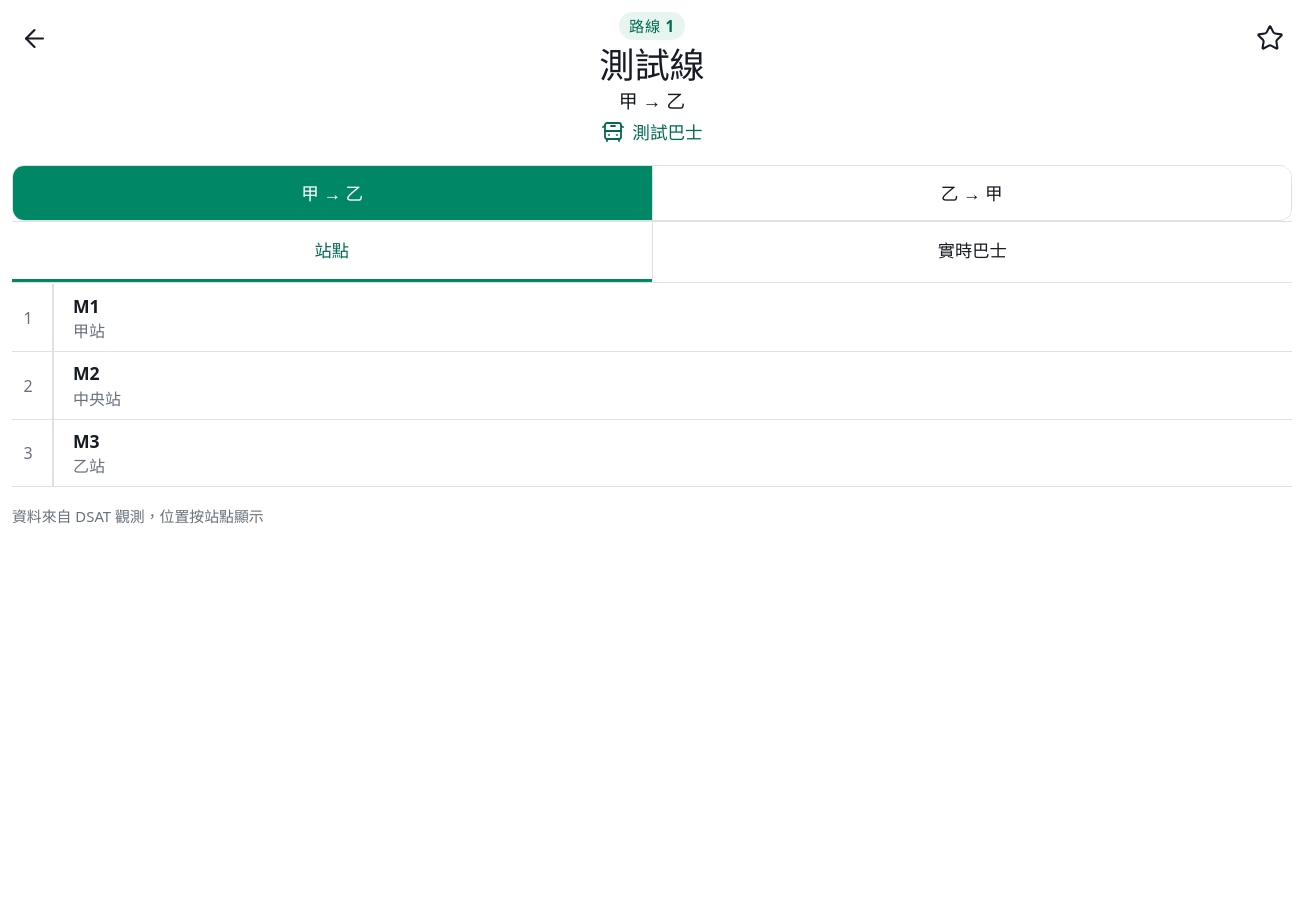
Scenario: RoutePage › shows the full plate while masking development diagnostics
The image size is (1304, 912).
Step 1. Click the tab "實時巴士" → (972, 252), box [652,222,1292,282]
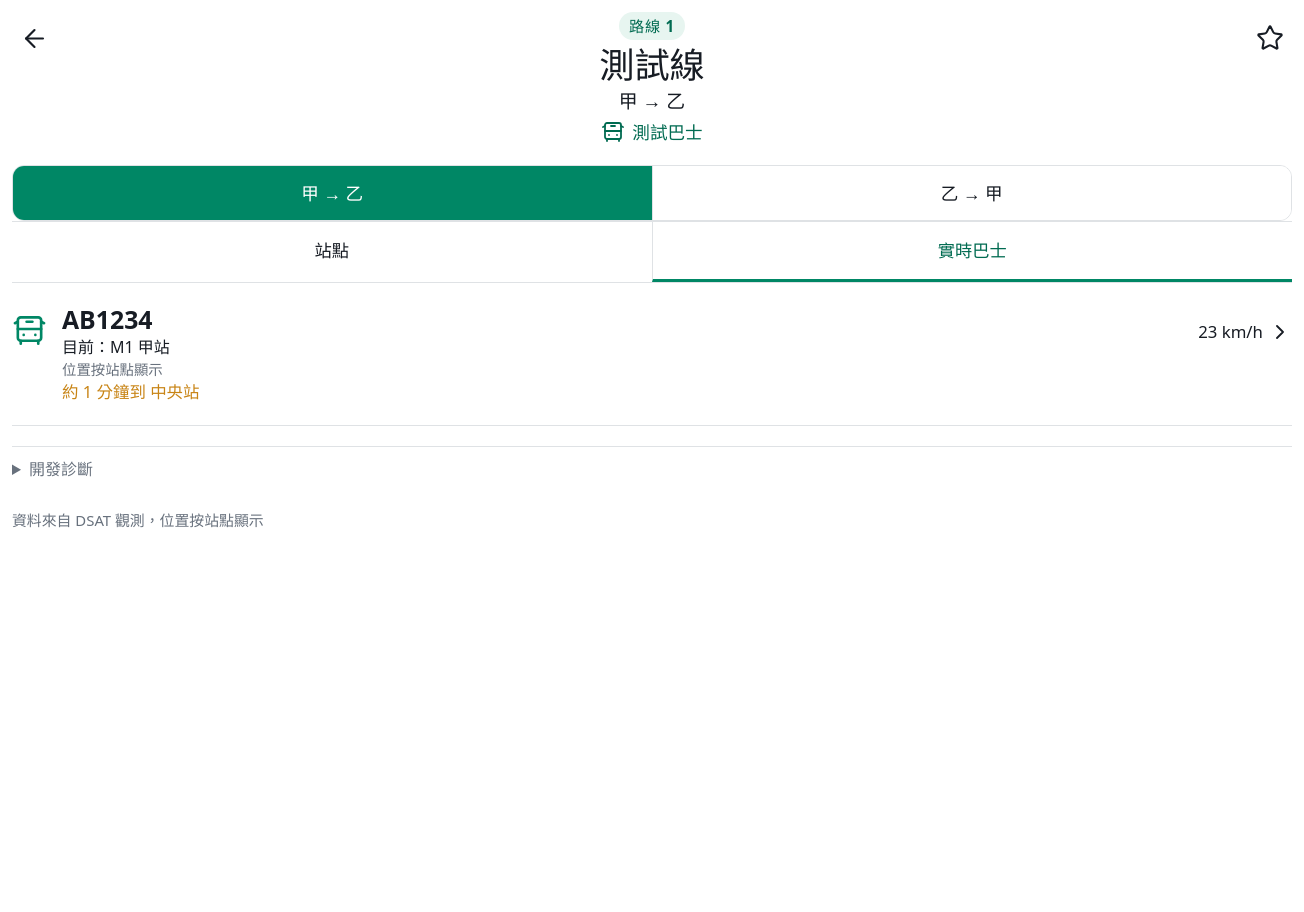
Expected: the heading "開發診斷" is shown
Expected: the text "AB1234" is shown, [62,302,152,336]
Step 2. Click the heading "開發診斷" → (61, 469), box [29,458,93,480]
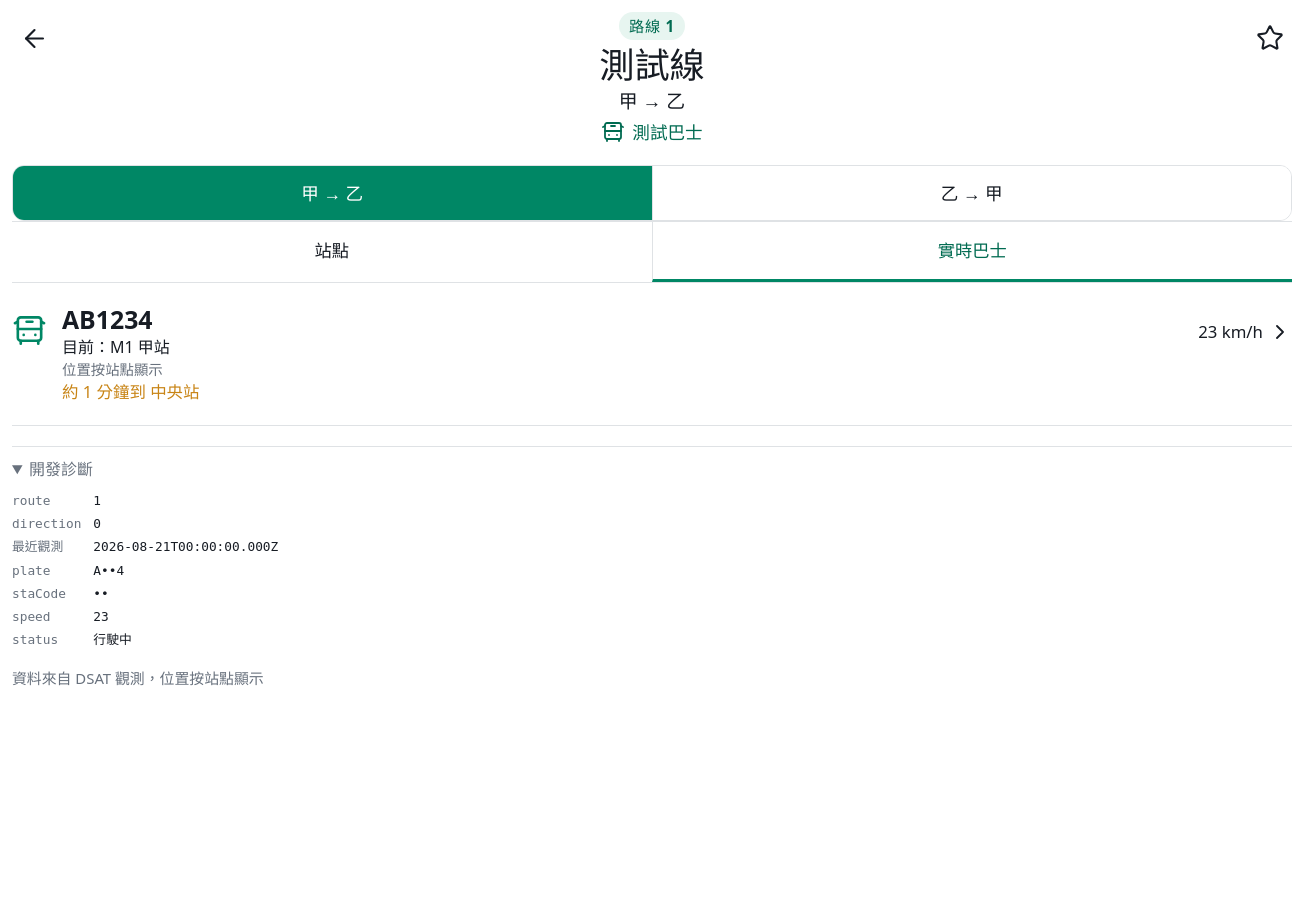
Expected: the text "開發診斷" is shown, [29,458,93,480]
Expected: the text "A••4" is shown, [93,563,124,578]
Expected: the text "••" is shown, [93,586,109,601]
